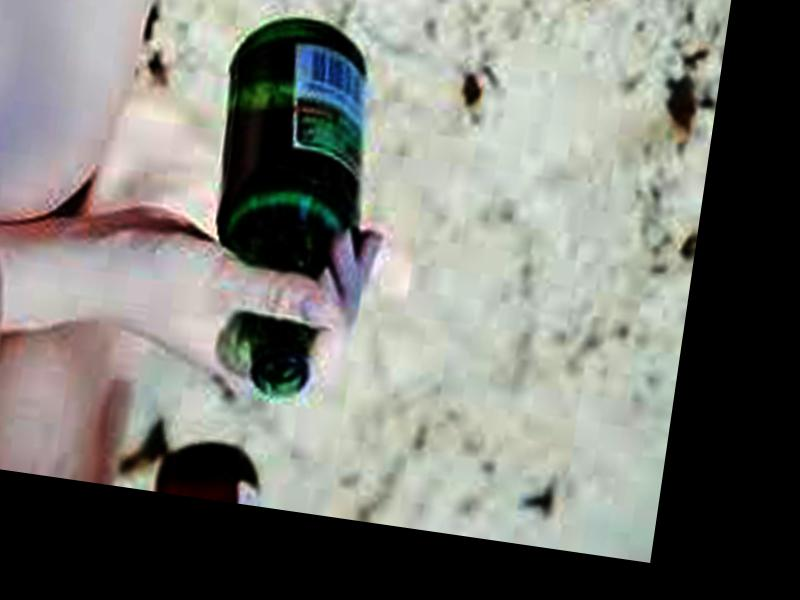Beer: (183, 9, 383, 406)
